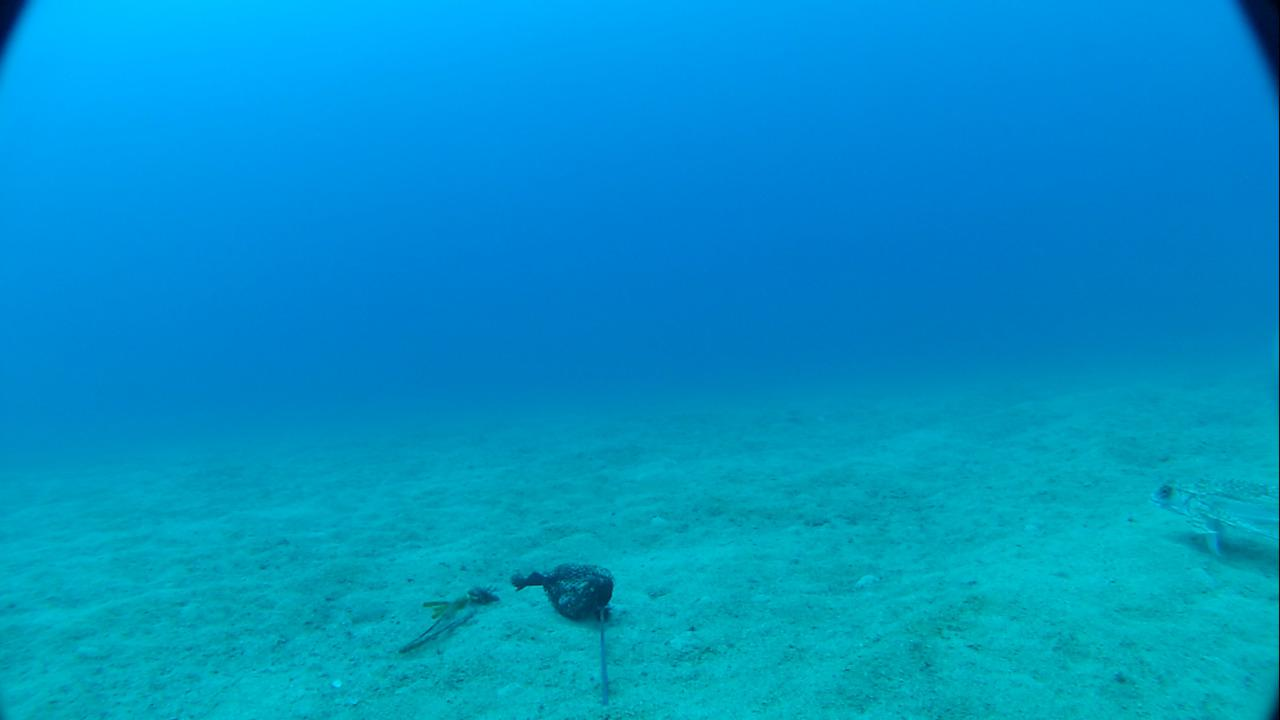dactylopterus: (1138, 455, 1279, 561)
